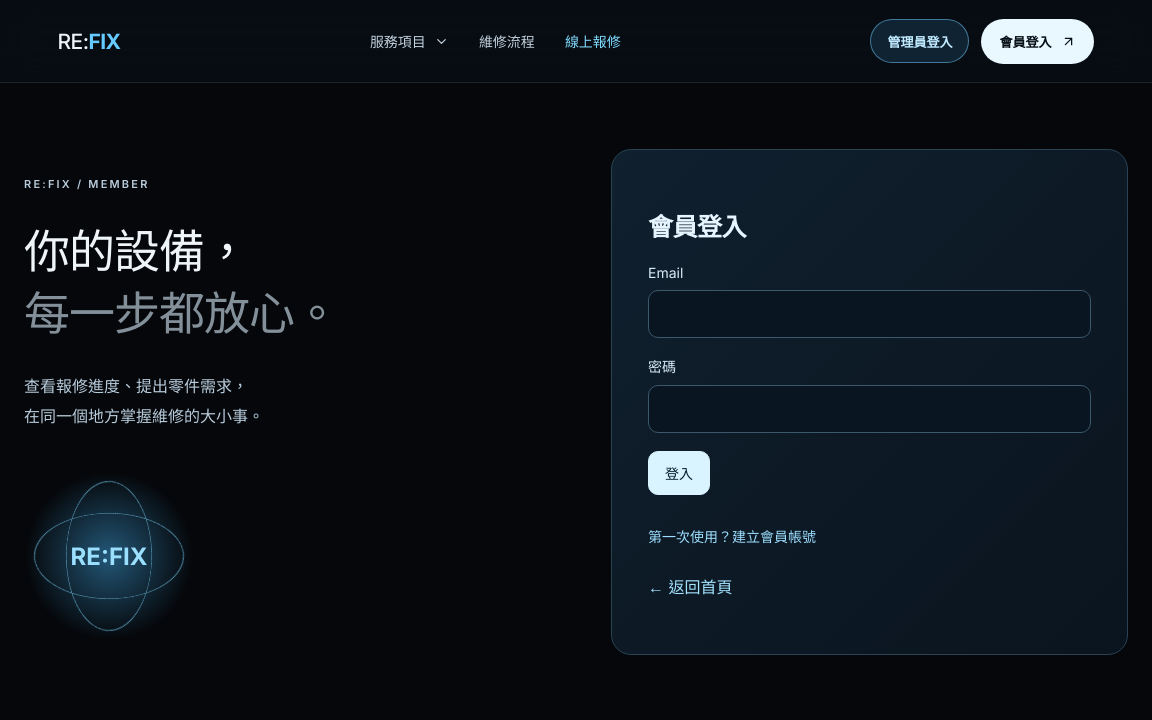
Test: logs in on the repair page then shows one combined form with no dashboard duplication
In the field labelled "Email": (870, 314) [648, 290, 1091, 338], type "member@example.com"
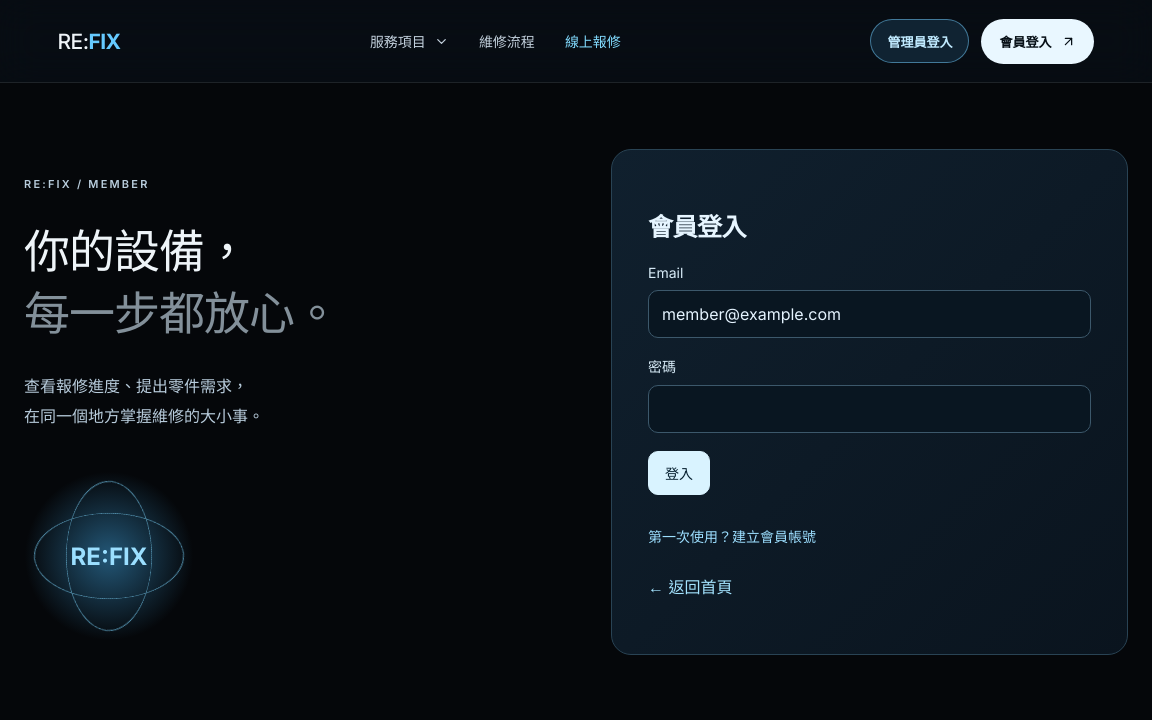
In the password field labelled "密碼": (870, 408) [648, 384, 1091, 432], type "Member12345!"
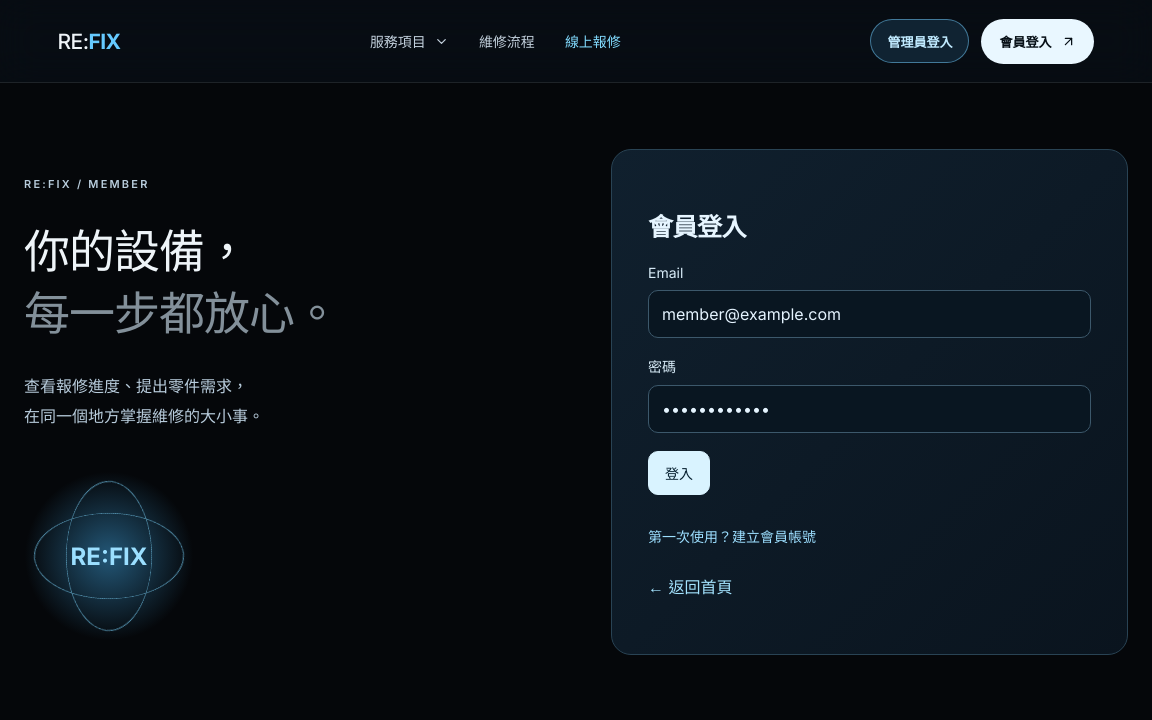
Click the button "登入": (679, 472) [648, 450, 710, 494]
(page scrolled)
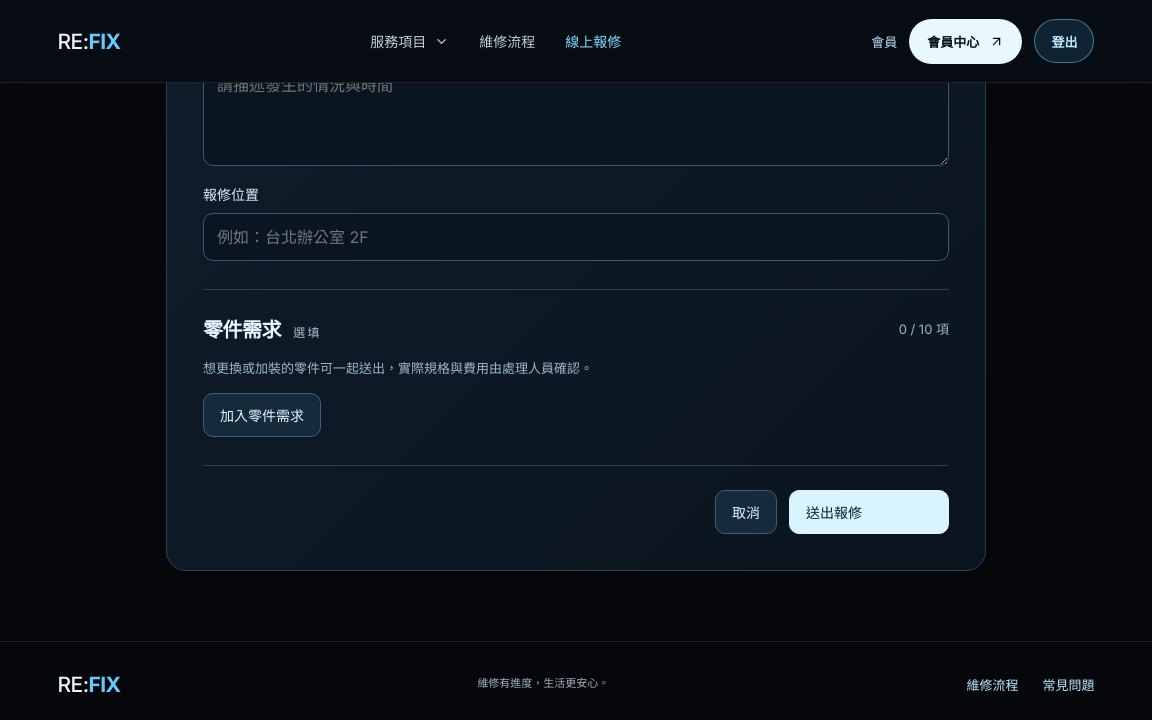
Expected: the number of buttons "送出報修" is 1, [789, 490, 949, 534]
Expected: the button "加入零件需求" is shown, [203, 393, 321, 437]
